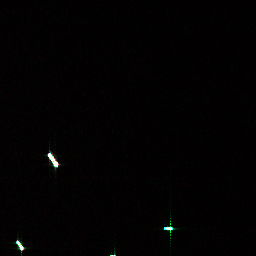ship: (45, 150, 61, 170), (13, 237, 26, 253), (162, 226, 173, 231)
